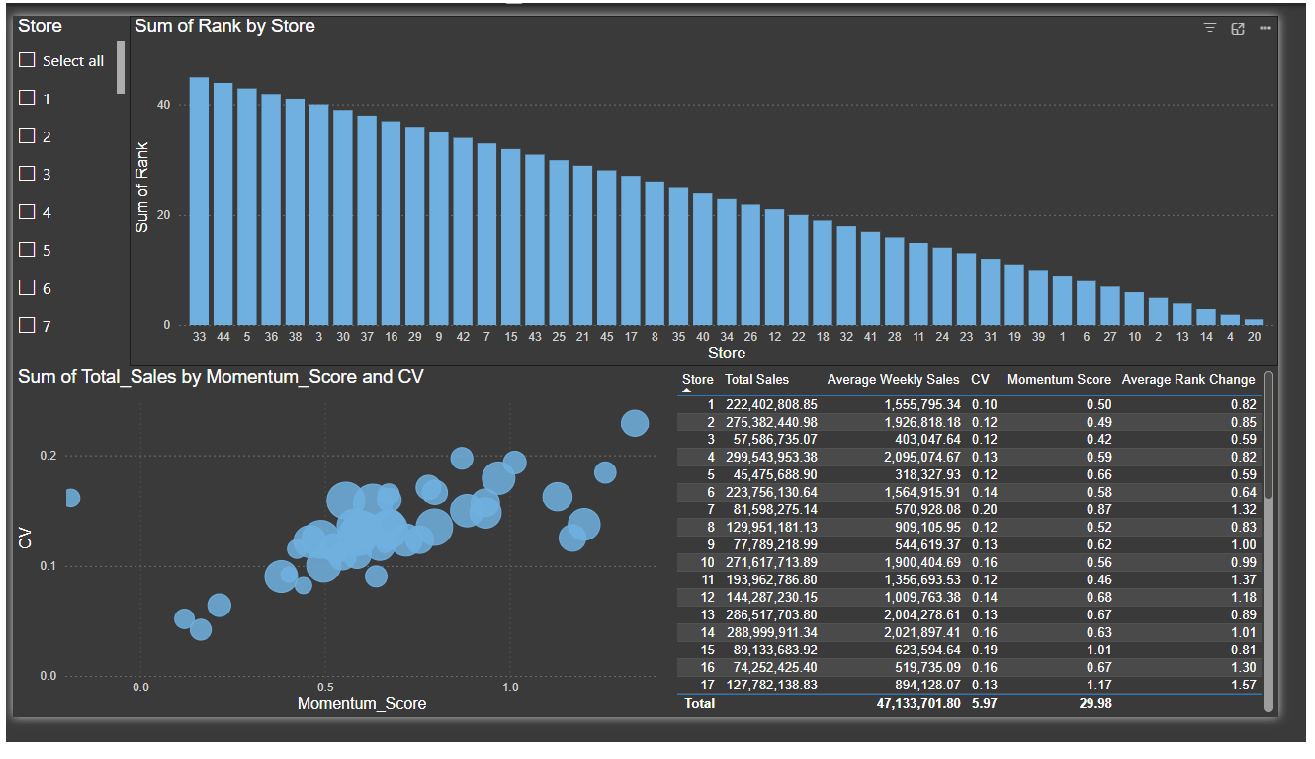

What the dashboard file says about the page in this screenshot:
{"tool":"powerbi","page":{"name":"Page 2","canvas":[1280,720],"ordinal":1},"visuals":[{"type":"scatterChart","title":"Store Investment Quadrant","fields":{"Y":["store_summary.CV"],"X":["store_momentum.Momentum_Score"],"Size":["Sum(store_ranking.Total_Sales)","select","select1"]},"box":[0,391.4,665.2,328.6],"z":0},{"type":"clusteredColumnChart","title":"Rank Placement by Store","fields":{"Category":["store_ranking.Store"],"Y":["Sum(store_ranking.Rank)"]},"box":[149,42.2,1131.2,349.2],"z":1000},{"type":"tableEx","fields":{"Values":["store_momentum.Store","store_ranking.Total_Sales","store_summary.Avg_Weekly_Sales","store_summary.CV","store_momentum.Momentum_Score","store_rank_consistency.Avg_Rank_Change"]},"box":[665.2,391.4,614.1,328.6],"z":2000},{"type":"listSlicer","fields":{"Values":["store_rank_consistency.Store"]},"box":[6.3,42.2,142.7,349.2],"z":3000},{"type":"textbox","title":"Store Investment Matrix","box":[0,0,1279.3,42.2],"z":4000}]}

Visuals, with their boxes in screenshot pixels (x1, y1, x2, y2), scaled from the page's 1280x720 canvas onto the 1315x759 screenshot:
"Store Investment Quadrant" scatterChart: region(0, 413, 683, 758)
"Rank Placement by Store" clusteredColumnChart: region(153, 44, 1314, 413)
tableEx - store_momentum.Store x store_ranking.Total_Sales: region(683, 413, 1314, 758)
listSlicer - store_rank_consistency.Store: region(6, 44, 153, 413)
"Store Investment Matrix" textbox: region(0, 0, 1314, 44)
